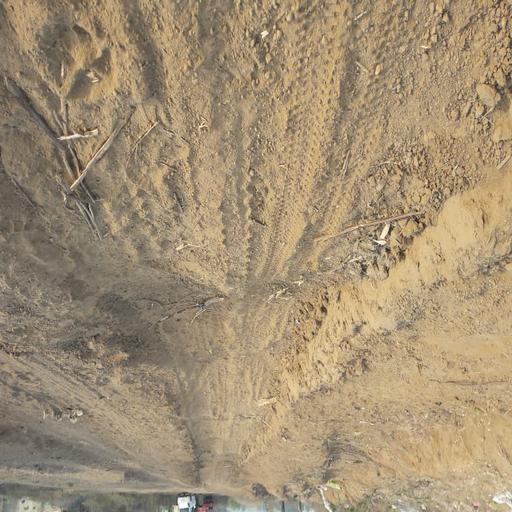vehicle_track: (0, 0, 429, 482)
